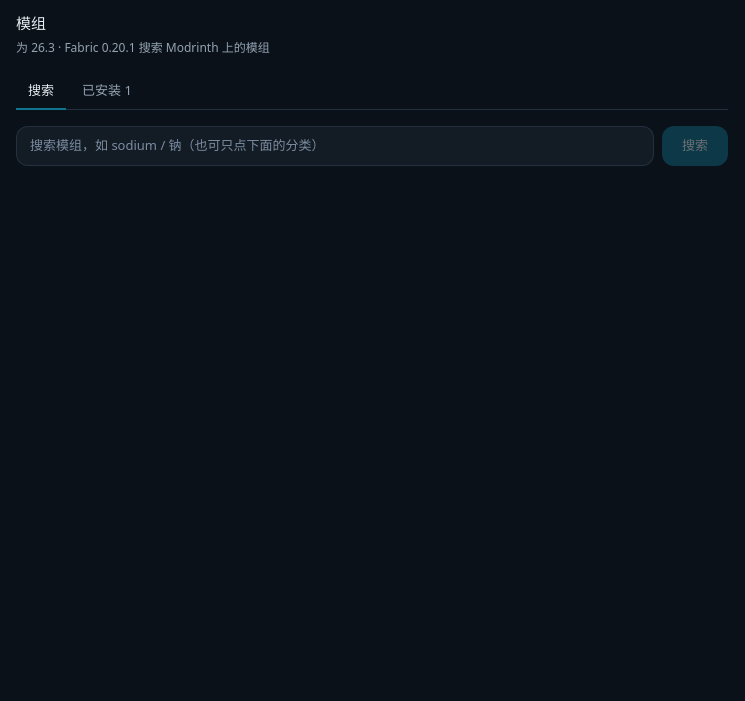
Test case: 卸载 › 可以取消删除
The image size is (745, 701).
Click the tab "已安装 1". click: {"x": 107, "y": 91}
box: x1=70 y1=72 x2=144 y2=110
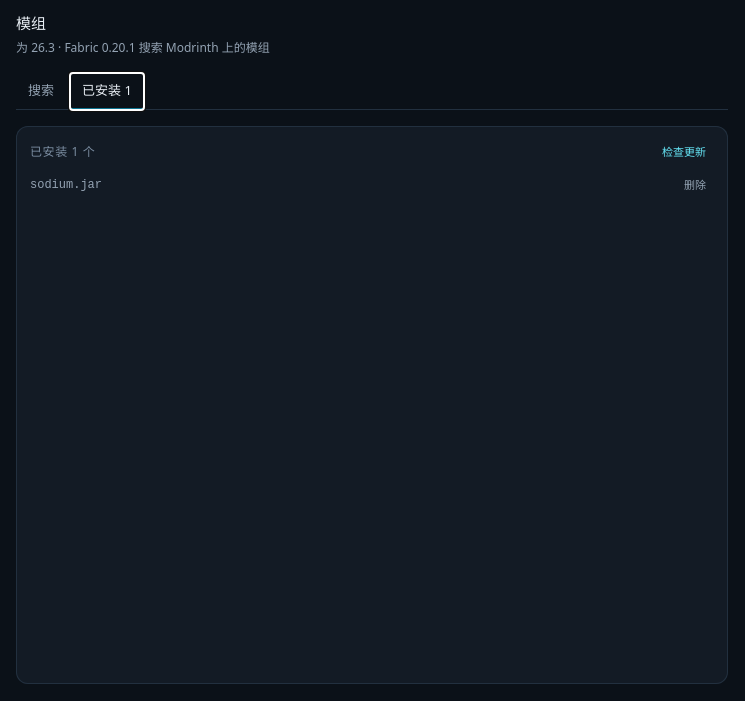
Click the button "删除". click: {"x": 695, "y": 185}
box: x1=676 y1=172 x2=714 y2=197
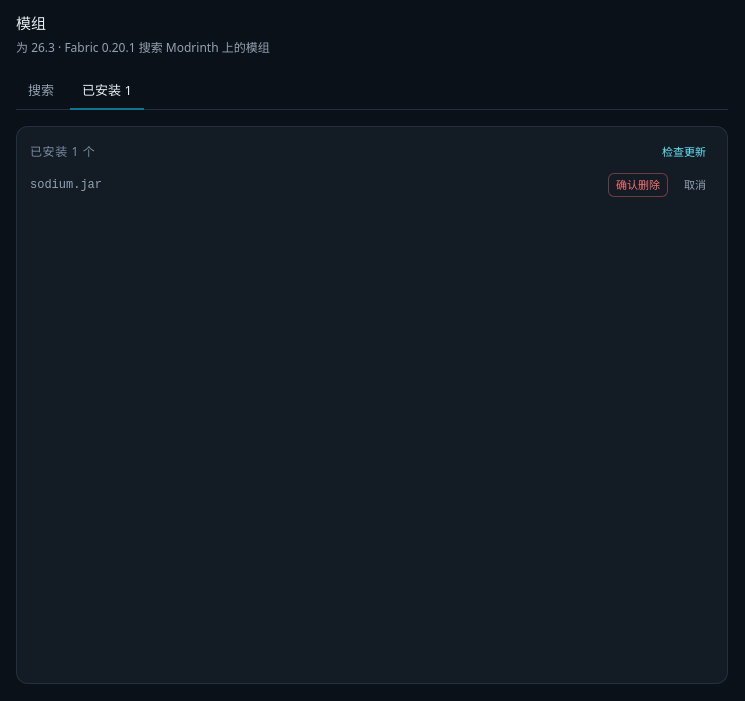
Click the button "取消". click: {"x": 695, "y": 185}
box: x1=676 y1=172 x2=714 y2=197
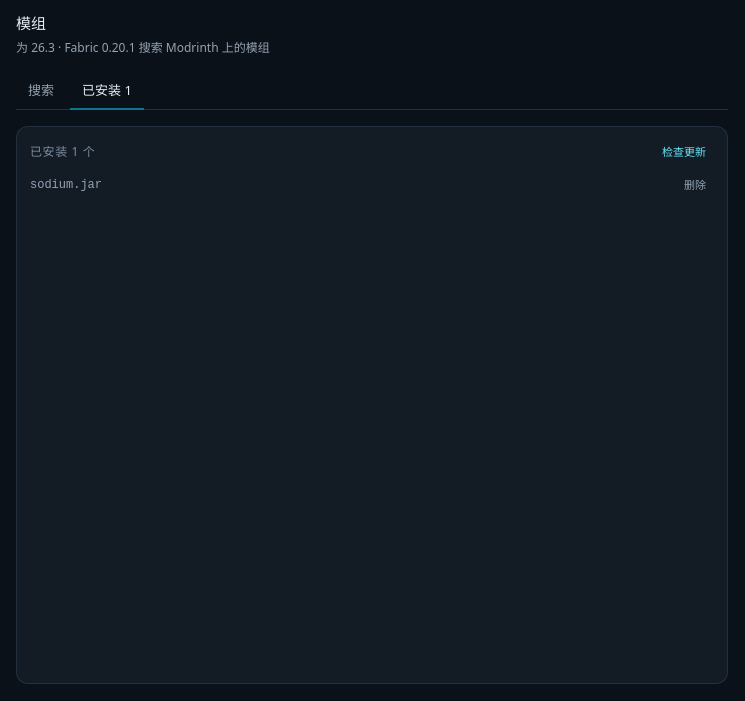
Result: the button "确认删除" is gone
